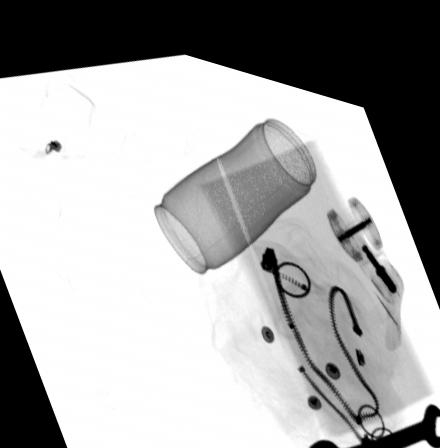Wrench: (304, 378, 440, 448)
